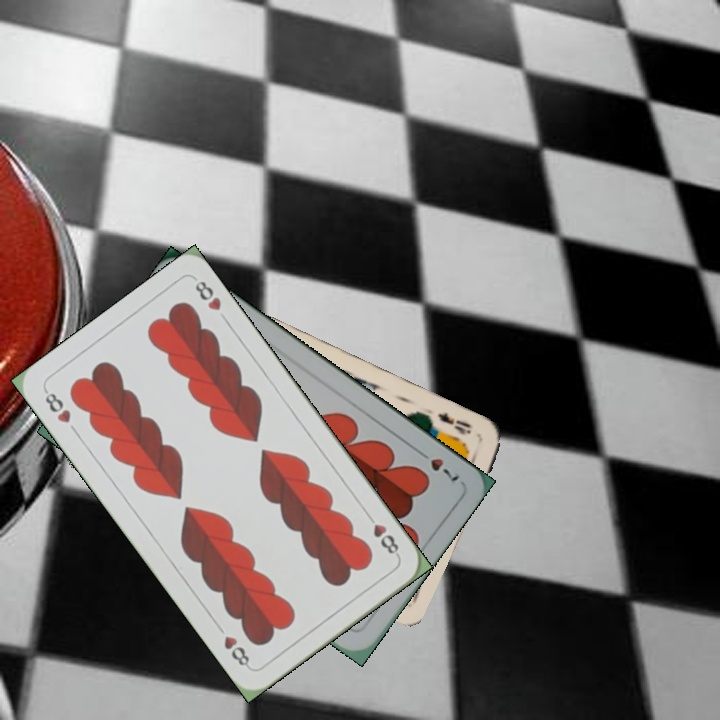EO: (433, 407, 474, 438)
H7: (412, 445, 462, 484)
H8: (362, 509, 402, 560), (40, 386, 74, 426)
